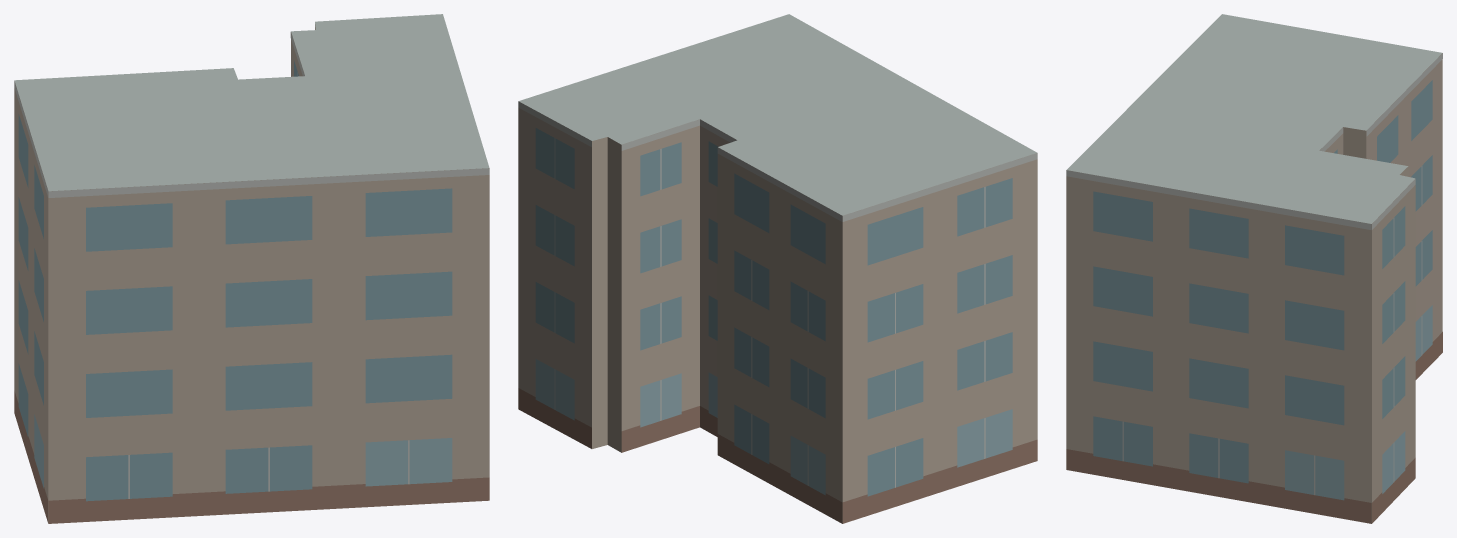
The model's file is survey-upis-33018417.glb.
The picture shows the model from 3 angles, left to right: view 1: azimuth 30°, elevation 25°; view 2: azimuth 150°, elevation 25°; view 3: azimuth 270°, elevation 25°; orthographic projection. The views are drawn at different scales.
Visible parts, largest first — view 1: survey-upis-33018417.tmp; view 2: survey-upis-33018417.tmp; view 3: survey-upis-33018417.tmp.
Part boxes in pixels (left/top/right/bottom): survey-upis-33018417.tmp: left=14, top=14, right=489, bottom=523; survey-upis-33018417.tmp: left=518, top=14, right=1037, bottom=523; survey-upis-33018417.tmp: left=1066, top=14, right=1442, bottom=523.
Size of the model in its own units: 17.74 by 11.8 by 13.44.
